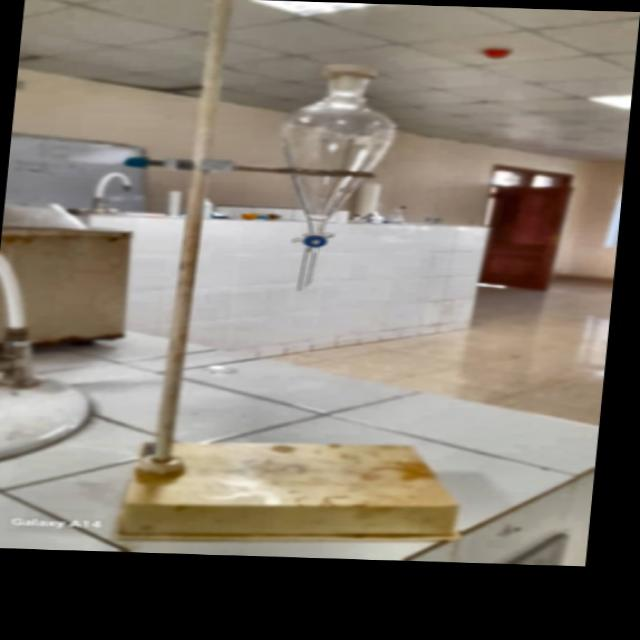Separating Funnel: (263, 50, 409, 302)
